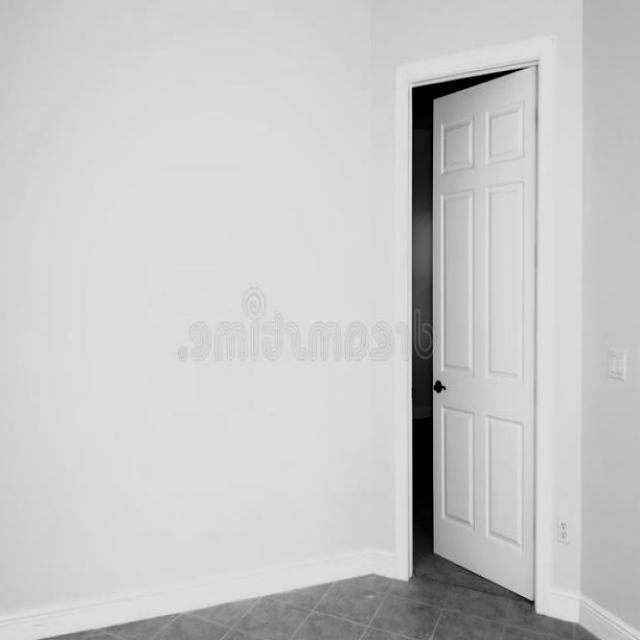door: (429, 63, 537, 601)
